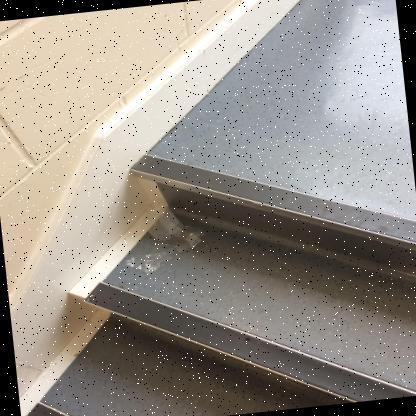Plastic film: (125, 201, 204, 274)
